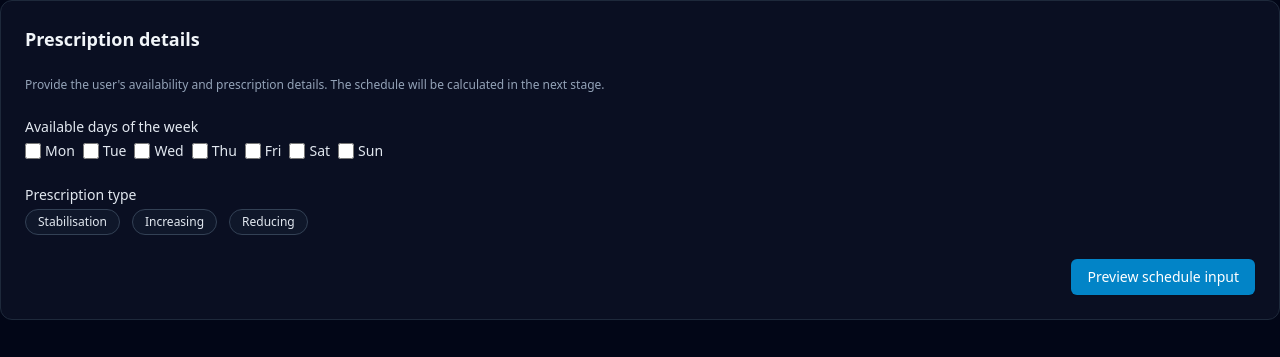
Scenario: PrescriptionForm › shows validation error when submitting empty form
This screenshot has width=1280, height=357.
Click the button "Preview schedule input". click: x=1163, y=277
box: [1072,259,1255,295]
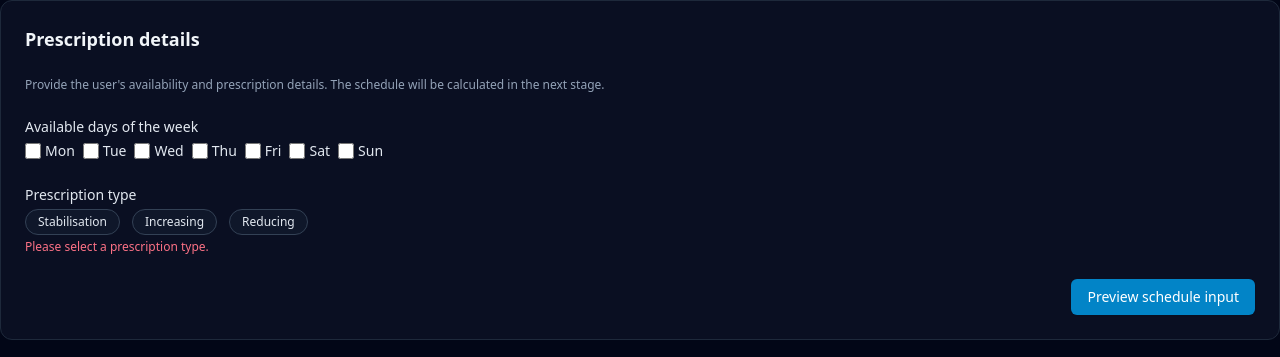
Expected: the text "Please select a prescription type." is shown, [25,238,209,255]
